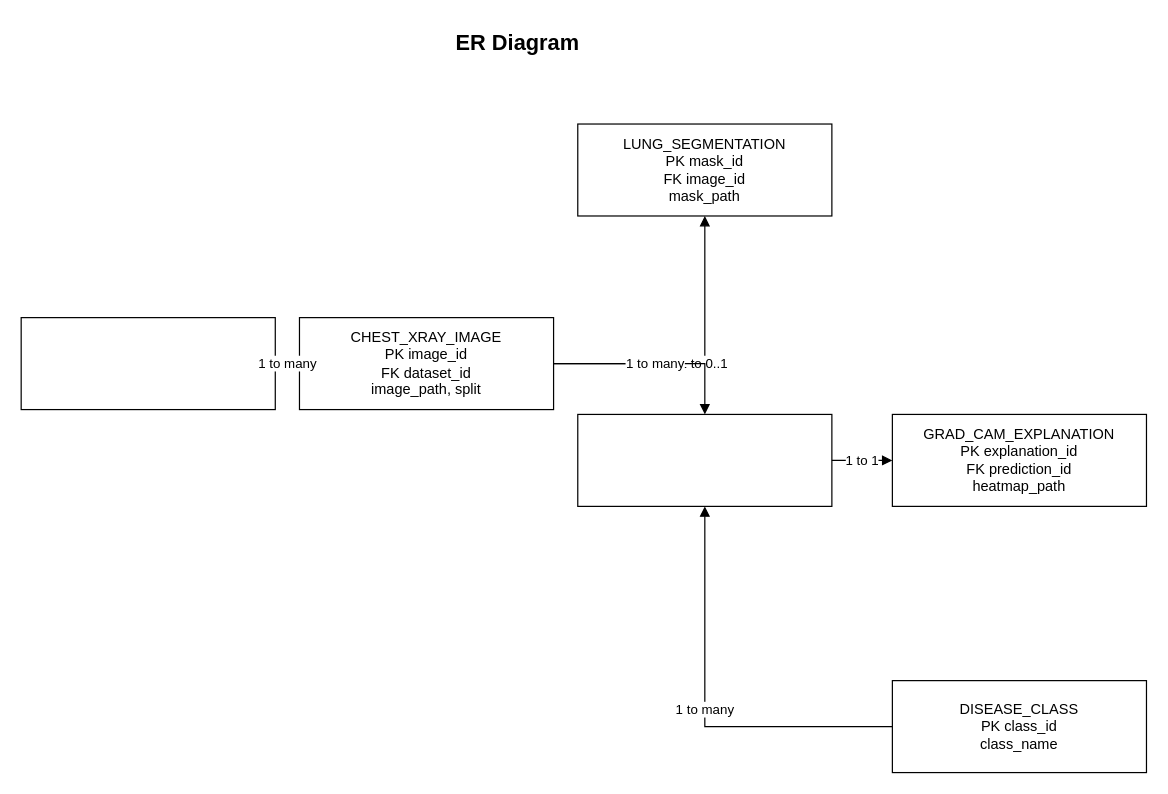
The diagram is 1168 pixels wide and 794 high, and some of its shapes have lost their labels. Here are the shapes that lost their labels. From the top down, the box of each, then its label:
(20, 316, 275, 410): DATASET PK dataset_id source_name
(577, 413, 832, 506): PREDICTION PK prediction_id FK image_id predicted_class confidence
